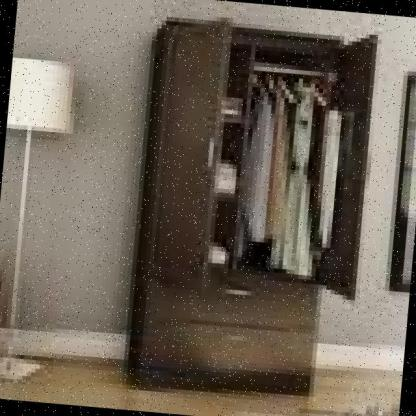Closet: (118, 3, 384, 404)
